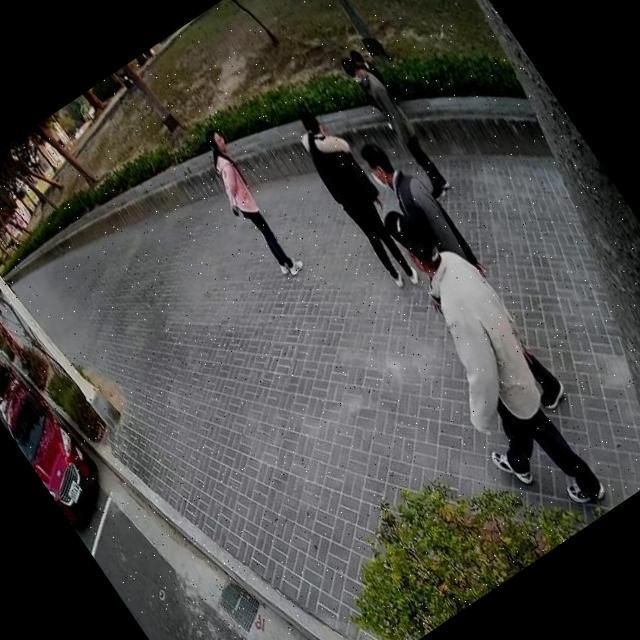person: (338, 176, 629, 540), (350, 119, 581, 428), (276, 92, 436, 298), (183, 120, 313, 288), (334, 41, 460, 207), (335, 37, 415, 136)
